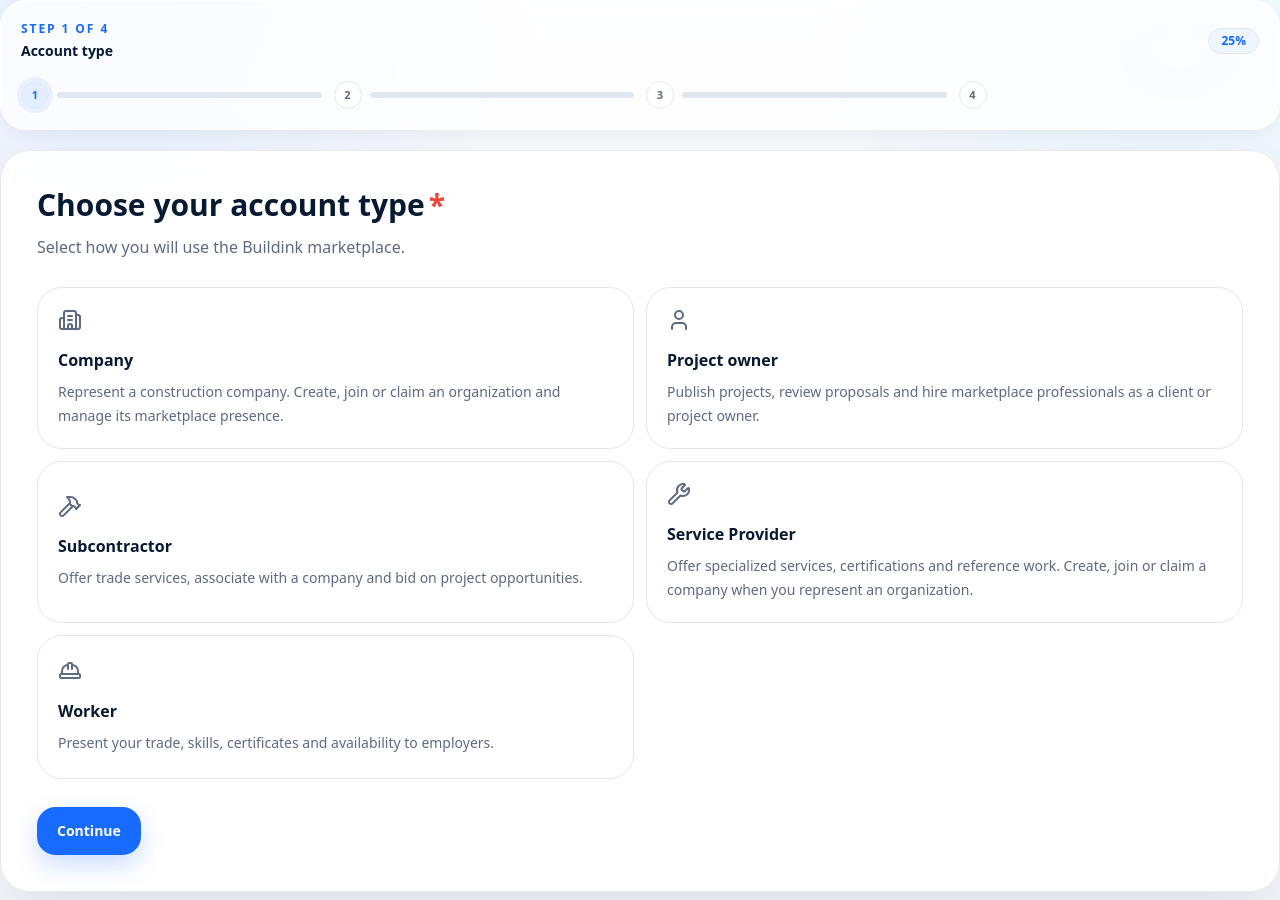
RoleSelection › shows a save error instead of a selection error when saving fails
Click the button "Company" at (96, 360), box [37,287,634,449]
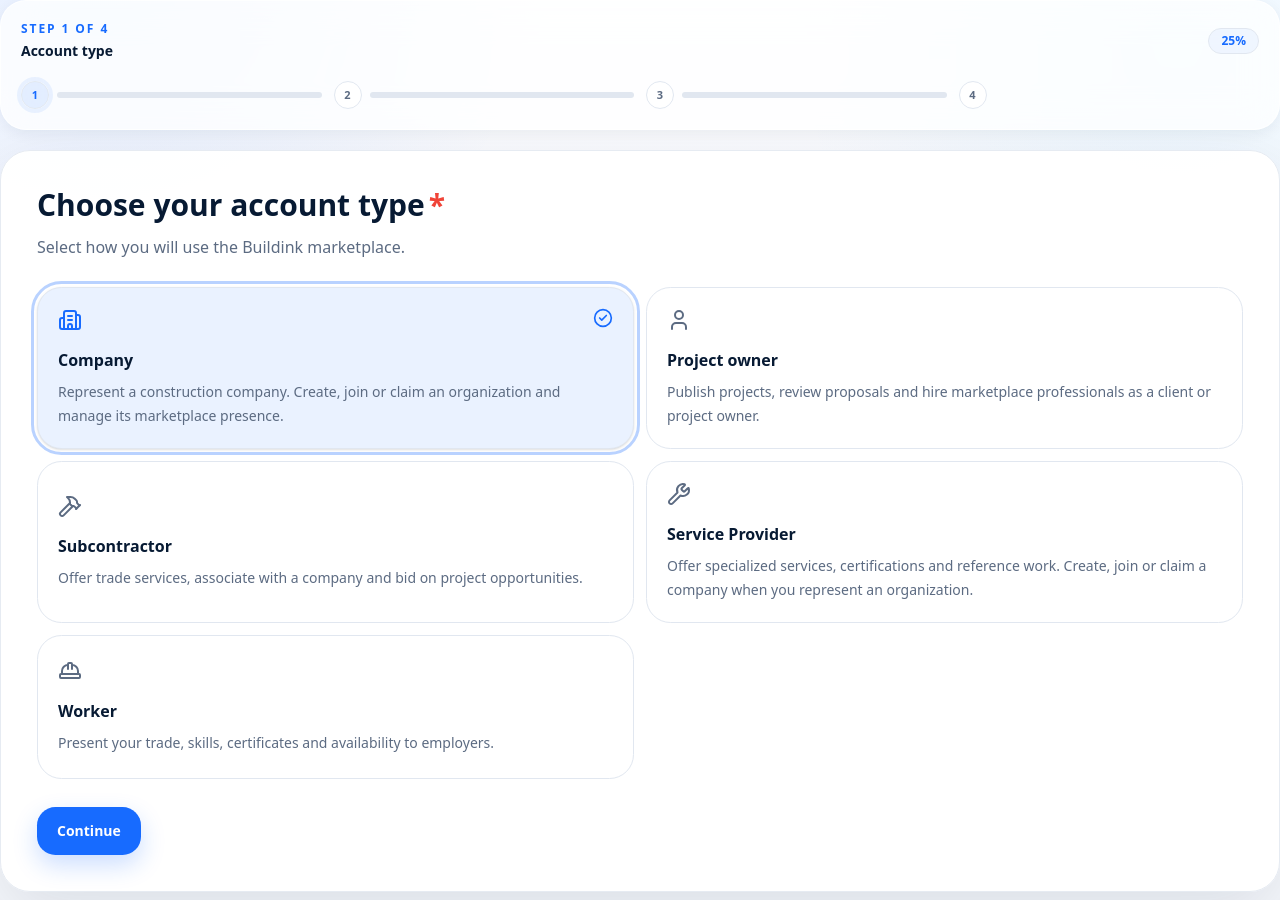
Click the button "Continue" at (89, 831), box [37,807,141,855]
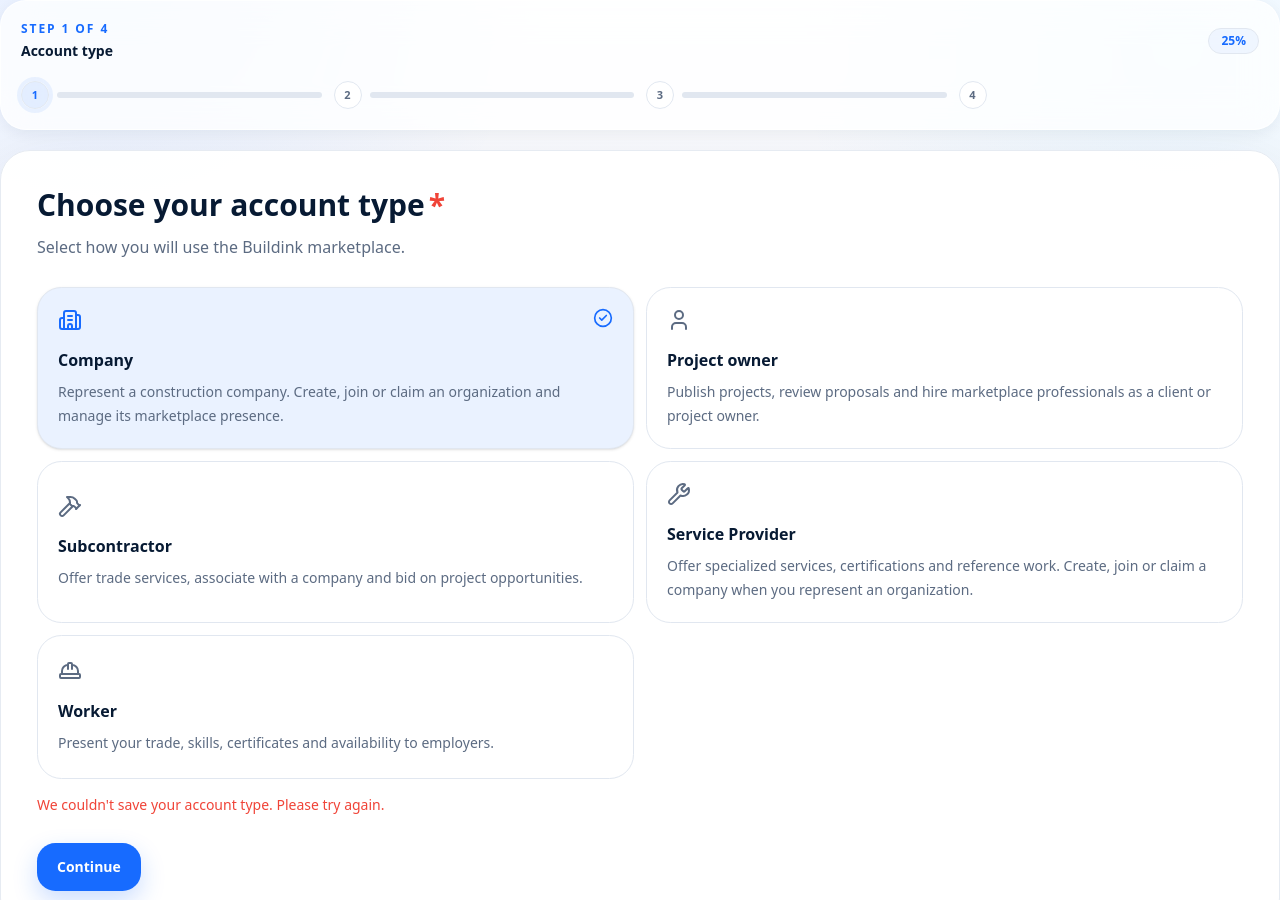
Expected: the text "We couldn't save your account type. Please try again." is shown, [37,795,384,814]
